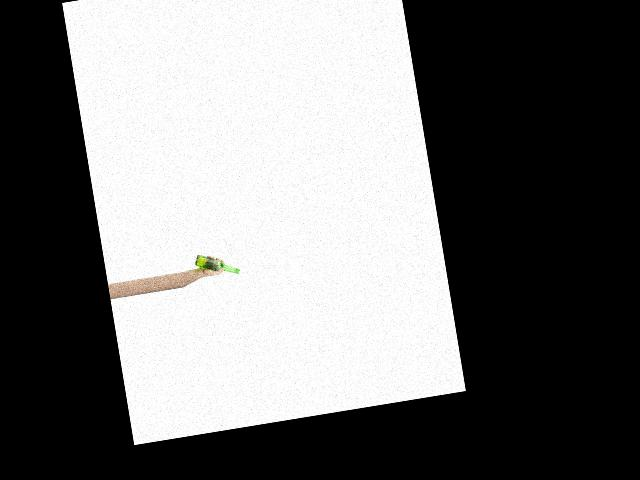beer: (194, 249, 240, 280)
